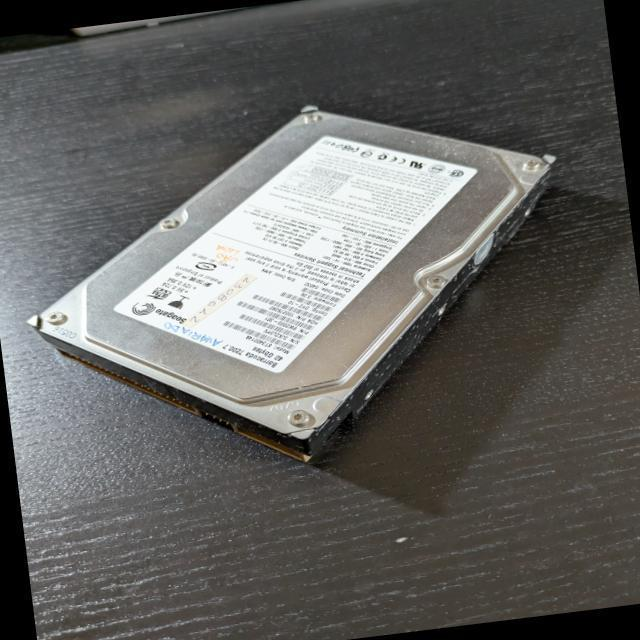DISK: (3, 75, 590, 495)
